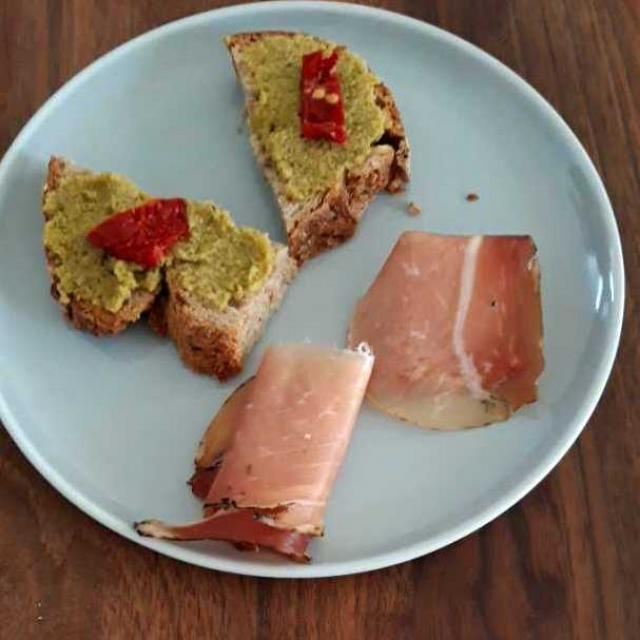bread: (28, 21, 418, 366)
ham: (180, 203, 548, 557)
tomato: (87, 45, 332, 264)
